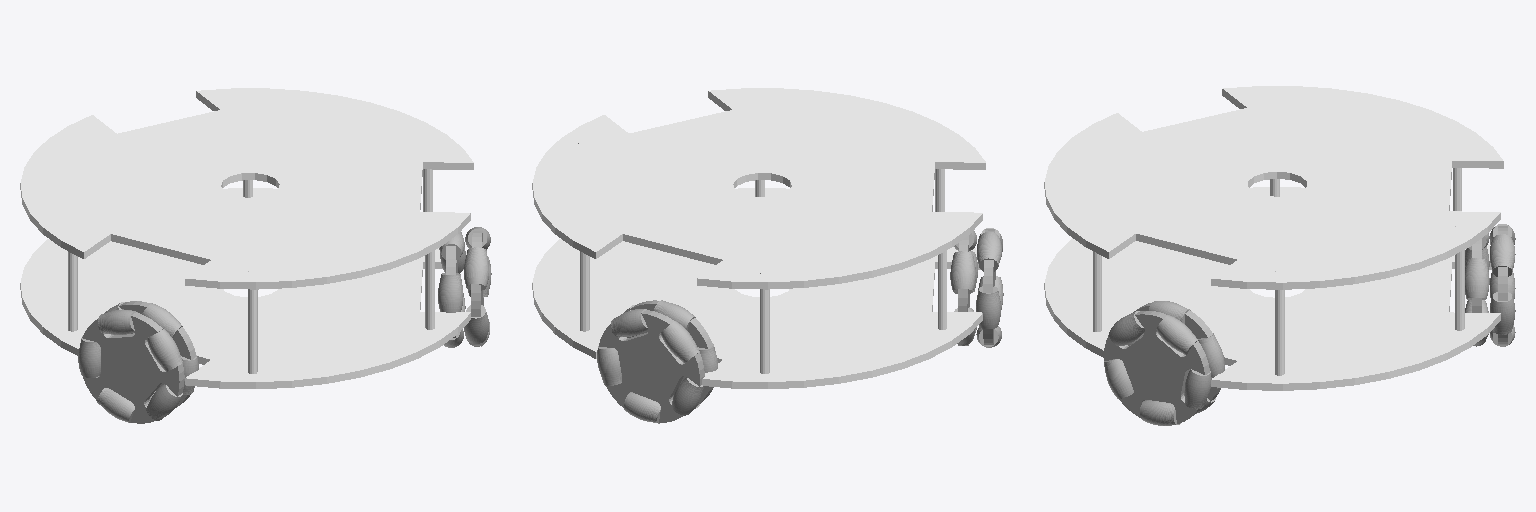
robot.urdf — carurdf:
<robot
  name="carurdf">
  <link
    name="base_footprint">
    <inertial>
      <origin
        xyz="-3.46944695195361E-18 4.5102810375397E-17 0.026"
        rpy="0 0 0" />
      <mass
        value="0.303178135776057" />
      <inertia
        ixx="0.00122571343719098"
        ixy="1.59612770998232E-19"
        ixz="-1.1206960747528E-20"
        iyy="0.00122571343719098"
        iyz="8.96793349527384E-21"
        izz="0.0019820963208118" />
    </inertial>
    <visual>
      <origin
        xyz="0 0 0"
        rpy="0 0 0" />
      <geometry>
        <mesh
          filename="package://carurdf/meshes/base_footprint.stl" />
      </geometry>
      <material
        name="">
        <color
          rgba="1 1 1 1" />
      </material>
    </visual>
    <collision>
      <origin
        xyz="0 0 0"
        rpy="0 0 0" />
      <geometry>
        <mesh
          filename="package://carurdf/meshes/base_footprint.stl" />
      </geometry>
    </collision>
  </link>
  <link
    name="link1">
    <inertial>
      <origin
        xyz="1.1129E-05 2.8813E-05 -0.0089999"
        rpy="0 0 0" />
      <mass
        value="0.038351" />
      <inertia
        ixx="1.1615E-05"
        ixy="-6.9837E-09"
        ixz="-8.8733E-09"
        iyy="1.1628E-05"
        iyz="3.475E-09"
        izz="1.9528E-05" />
    </inertial>
    <visual>
      <origin
        xyz="0 0 0"
        rpy="0 0 0" />
      <geometry>
        <mesh
          filename="package://carurdf/meshes/link1.stl" />
      </geometry>
      <material
        name="">
        <color
          rgba="0.75294 0.75294 0.75294 1" />
      </material>
    </visual>
    <collision>
      <origin
        xyz="0 0 0"
        rpy="0 0 0" />
      <geometry>
        <mesh
          filename="package://carurdf/meshes/link1.stl" />
      </geometry>
    </collision>
  </link>
  <joint
    name="joint1"
    type="continuous">
    <origin
      xyz="-0.10369 -0.056326 0"
      rpy="1.5708 0 -1.0732" />
    <parent
      link="base_footprint" />
    <child
      link="link1" />
    <axis
      xyz="0 0 1" />
  </joint>
  <link
    name="link2">
    <inertial>
      <origin
        xyz="2.6133E-05 -1.6463E-05 -0.0021804"
        rpy="0 0 0" />
      <mass
        value="0.038351" />
      <inertia
        ixx="1.163E-05"
        ixy="4.0148E-09"
        ixz="5.1167E-09"
        iyy="1.1613E-05"
        iyz="8.0408E-09"
        izz="1.9528E-05" />
    </inertial>
    <visual>
      <origin
        xyz="0 0 0"
        rpy="0 0 0" />
      <geometry>
        <mesh
          filename="package://carurdf/meshes/link2.stl" />
      </geometry>
      <material
        name="">
        <color
          rgba="0.75294 0.75294 0.75294 1" />
      </material>
    </visual>
    <collision>
      <origin
        xyz="0 0 0"
        rpy="0 0 0" />
      <geometry>
        <mesh
          filename="package://carurdf/meshes/link2.stl" />
      </geometry>
    </collision>
  </link>
  <joint
    name="jonit2"
    type="continuous">
    <origin
      xyz="0.094809 -0.058073 0"
      rpy="0.54958 1.5708 0" />
    <parent
      link="base_footprint" />
    <child
      link="link2" />
    <axis
      xyz="0 0 -1" />
  </joint>
  <link
    name="link3">
    <inertial>
      <origin
        xyz="-3.0684E-05 3.5349E-06 0.0090001"
        rpy="0 0 0" />
      <mass
        value="0.038351" />
      <inertia
        ixx="1.1624E-05"
        ixy="9.264E-09"
        ixz="-1.1348E-09"
        iyy="1.162E-05"
        iyz="-9.4618E-09"
        izz="1.9528E-05" />
    </inertial>
    <visual>
      <origin
        xyz="0 0 0"
        rpy="0 0 0" />
      <geometry>
        <mesh
          filename="package://carurdf/meshes/link3.stl" />
      </geometry>
      <material
        name="">
        <color
          rgba="0.75294 0.75294 0.75294 1" />
      </material>
    </visual>
    <collision>
      <origin
        xyz="0 0 0"
        rpy="0 0 0" />
      <geometry>
        <mesh
          filename="package://carurdf/meshes/link3.stl" />
      </geometry>
    </collision>
  </link>
  <joint
    name="jonit3"
    type="continuous">
    <origin
      xyz="0 0.11551 0"
      rpy="-1.5708 0 -3.1416" />
    <parent
      link="base_footprint" />
    <child
      link="link3" />
    <axis
      xyz="0 0 1" />
  </joint>
</robot>

--- Render facts (derived) ---
The picture shows the robot from 3 angles, left to right: view 1: azimuth 30°, elevation 25°; view 2: azimuth 150°, elevation 25°; view 3: azimuth 270°, elevation 25°; orthographic projection.
Model carurdf with 4 links and 3 joints (3 continuous), rooted at base_footprint, posed every joint at zero.
Visible links, largest first — view 1: base_footprint, link1, link2; view 2: base_footprint, link3, link1; view 3: base_footprint, link2, link3.
Link boxes in pixels (x1,y1,x2,y2): base_footprint: [20, 88, 473, 388]; link1: [78, 301, 198, 423]; link2: [438, 227, 491, 347]; base_footprint: [532, 88, 985, 388]; link3: [597, 300, 717, 423]; link1: [950, 228, 1003, 347]; base_footprint: [1044, 86, 1503, 390]; link2: [1104, 301, 1224, 425]; link3: [1465, 224, 1515, 346].
Bounding box of the posed robot: 0.2373 × 0.2365 × 0.0869 m (x, y, z).
Meshes: 4 distinct files referenced, 4 mesh visuals loaded (4 binary STL).